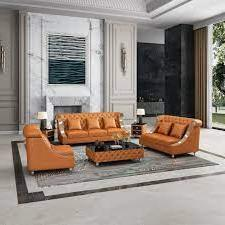chair: (19, 124, 73, 176)
door: (106, 20, 136, 122), (0, 15, 20, 126)
light: (36, 111, 52, 129), (135, 107, 146, 123)
sofa: (142, 108, 205, 163), (57, 108, 128, 145)
table: (83, 140, 148, 168), (38, 126, 60, 141), (130, 121, 148, 137)
